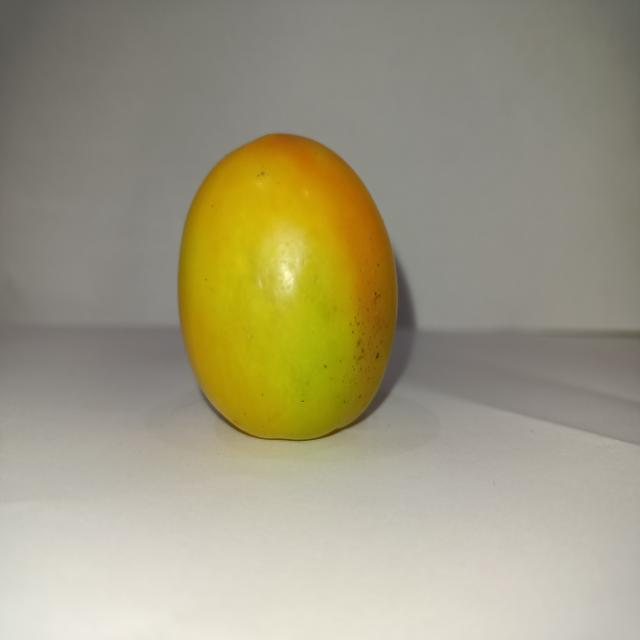Red: (175, 131, 399, 441)
